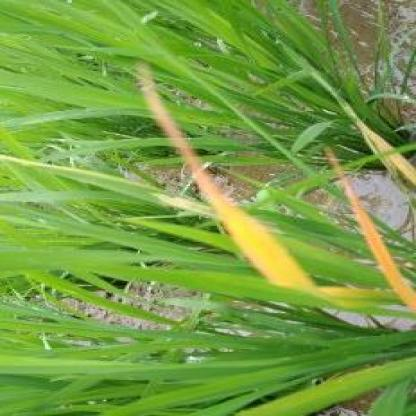Tungro: (148, 67, 392, 310), (338, 158, 416, 310)
